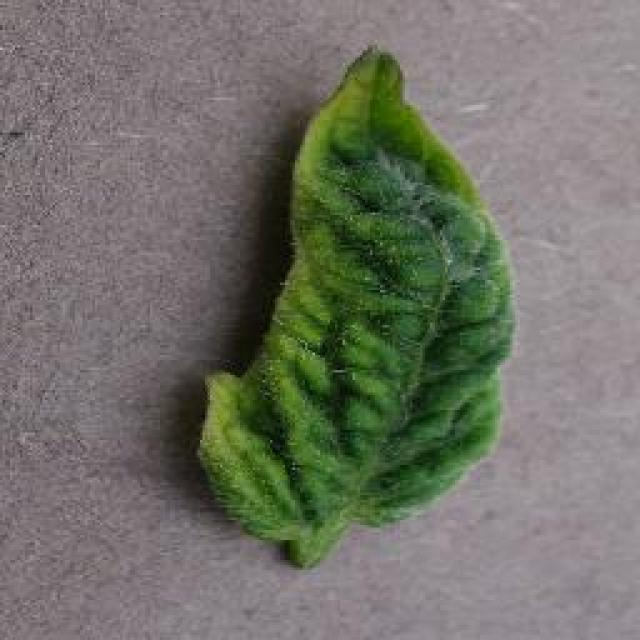Tomato yellow virus leaf: (188, 46, 514, 544)
